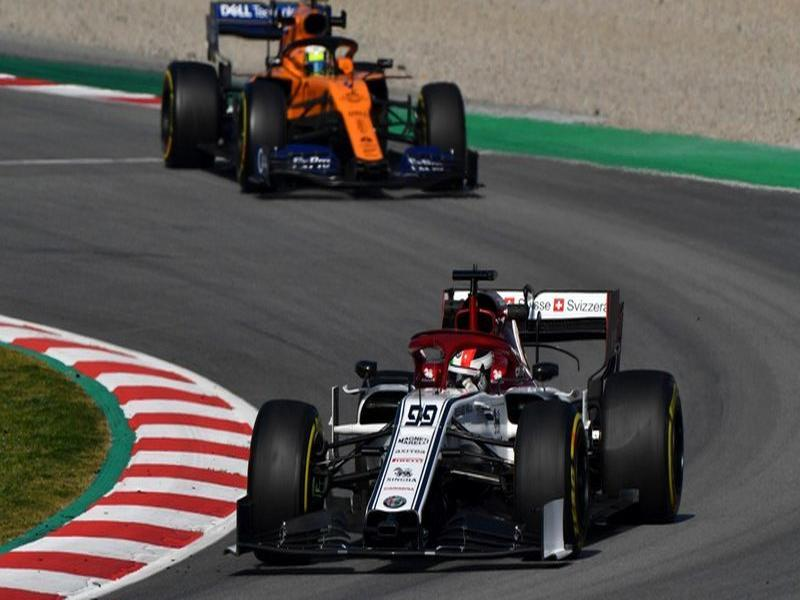f1: (254, 247, 727, 600), (150, 3, 517, 204)
